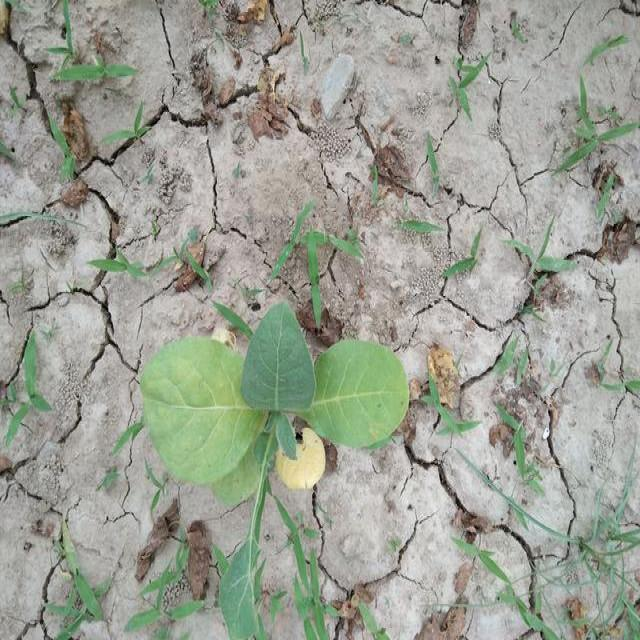crop: (129, 302, 411, 476)
